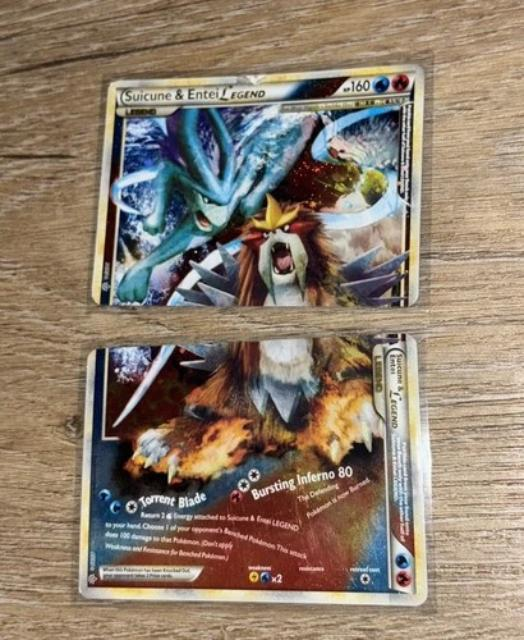Card: (74, 327, 434, 611), (88, 60, 427, 310)
Name: (120, 81, 271, 106), (385, 351, 410, 439)
